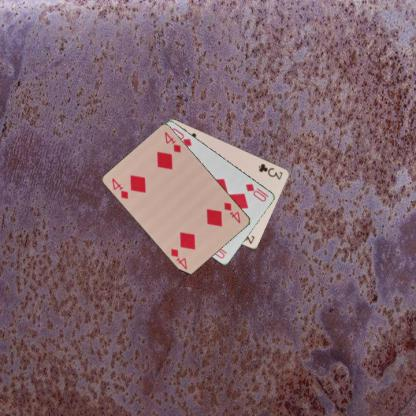10d: (243, 181, 270, 203)
3c: (256, 160, 284, 180)
4d: (221, 199, 242, 225), (109, 176, 130, 200)
